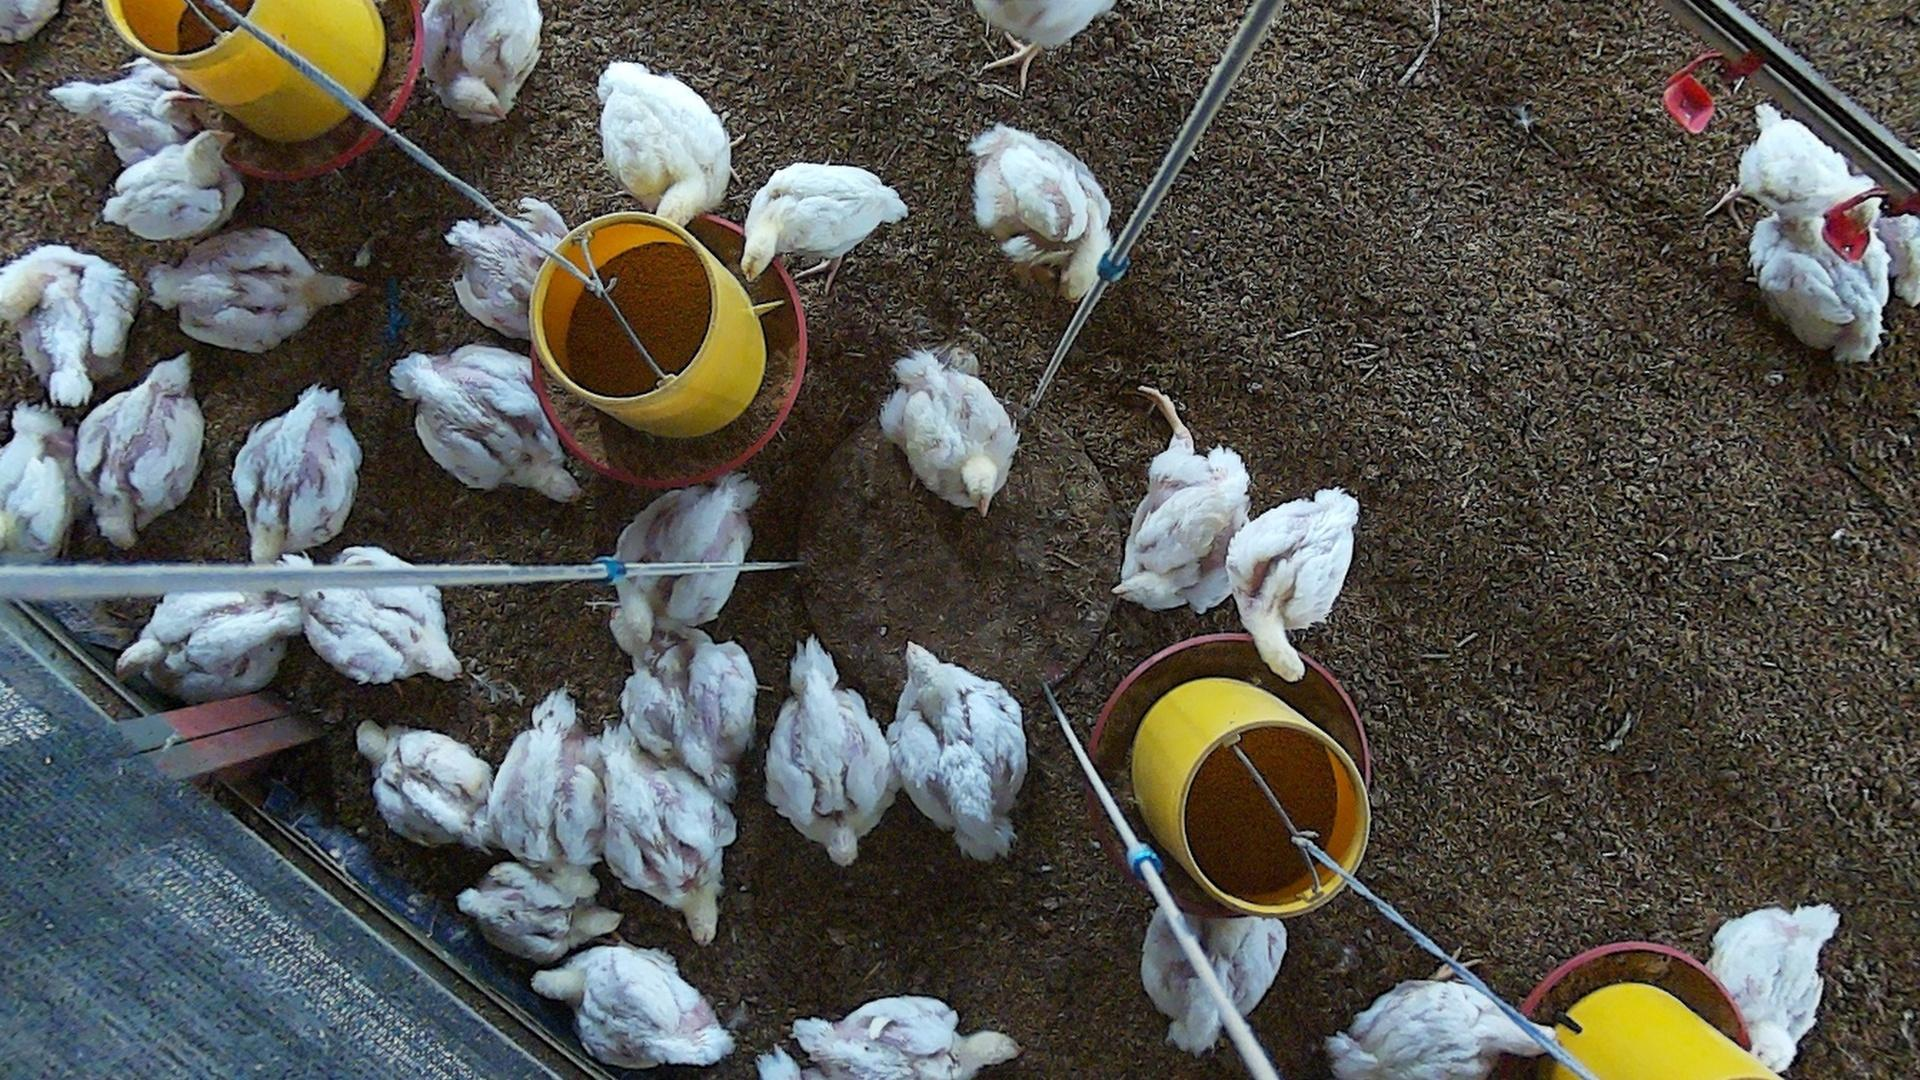ayam_broiler: (1112, 375, 1253, 611), (765, 636, 897, 866), (599, 721, 733, 943), (389, 343, 579, 498), (891, 642, 1026, 860), (607, 475, 753, 654), (969, 124, 1114, 305), (148, 228, 355, 352), (530, 944, 733, 1068), (1230, 487, 1360, 680), (76, 353, 204, 547), (622, 630, 757, 804), (491, 691, 604, 895), (232, 385, 361, 563), (742, 161, 914, 294), (1141, 901, 1286, 1056), (1331, 976, 1560, 1072), (881, 348, 1018, 509), (0, 245, 137, 406), (1706, 906, 1837, 1075), (116, 580, 303, 698), (599, 62, 732, 225), (1750, 211, 1890, 364), (790, 997, 1025, 1079), (446, 195, 572, 343), (1735, 103, 1876, 222), (360, 725, 495, 849), (458, 862, 618, 961), (103, 131, 241, 240), (421, 0, 541, 123), (50, 58, 193, 161), (306, 588, 460, 682), (0, 406, 71, 559)
